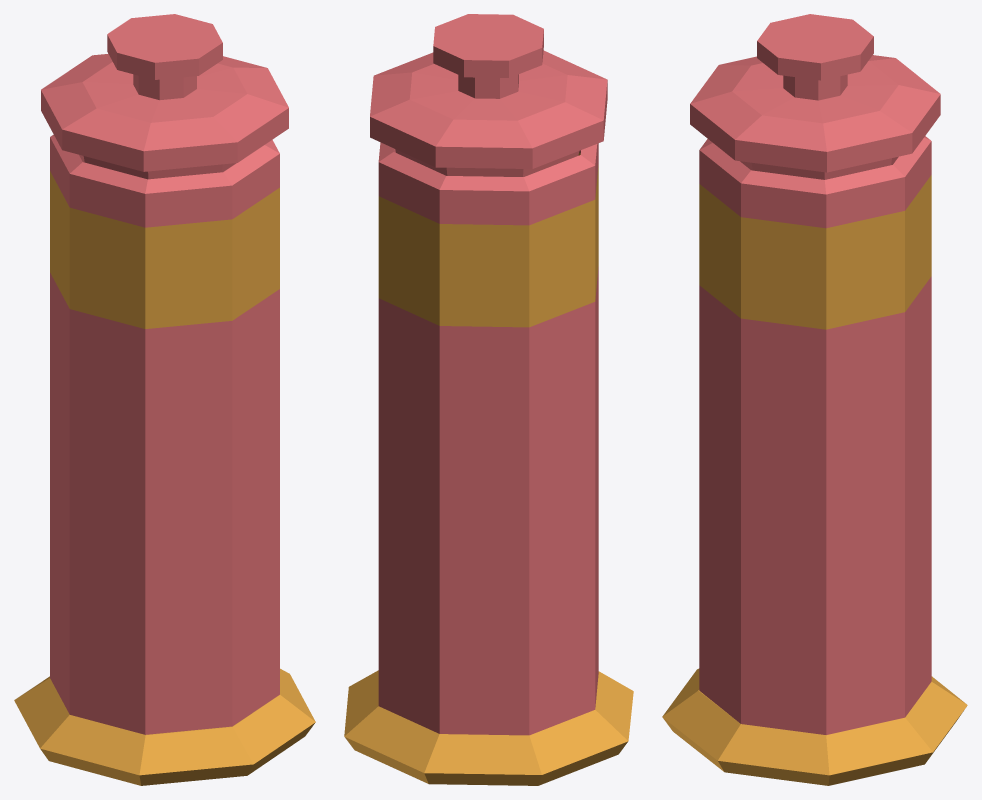
Rendered from SM_Jar_Snake_Colored.fbx.
3 views of the same model, side by side, from view 1: azimuth 30°, elevation 25°; view 2: azimuth 150°, elevation 25°; view 3: azimuth 270°, elevation 25° (orthographic).
Parts seen in each view (by area): view 1: jar-snake-colored; view 2: jar-snake-colored; view 3: jar-snake-colored.
Boxes of the visible parts, <box> form: jar-snake-colored: <box>14,14,315,785</box>; jar-snake-colored: <box>344,14,633,785</box>; jar-snake-colored: <box>662,14,967,785</box>.
Size of the model in its own units: 0.2997 by 0.7462 by 0.3007.
